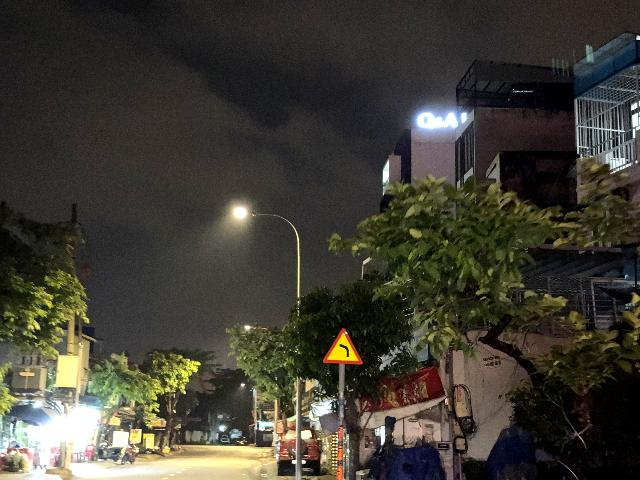cho-ngoat-nguy-hiem-ben-trai: (323, 328, 362, 364)
